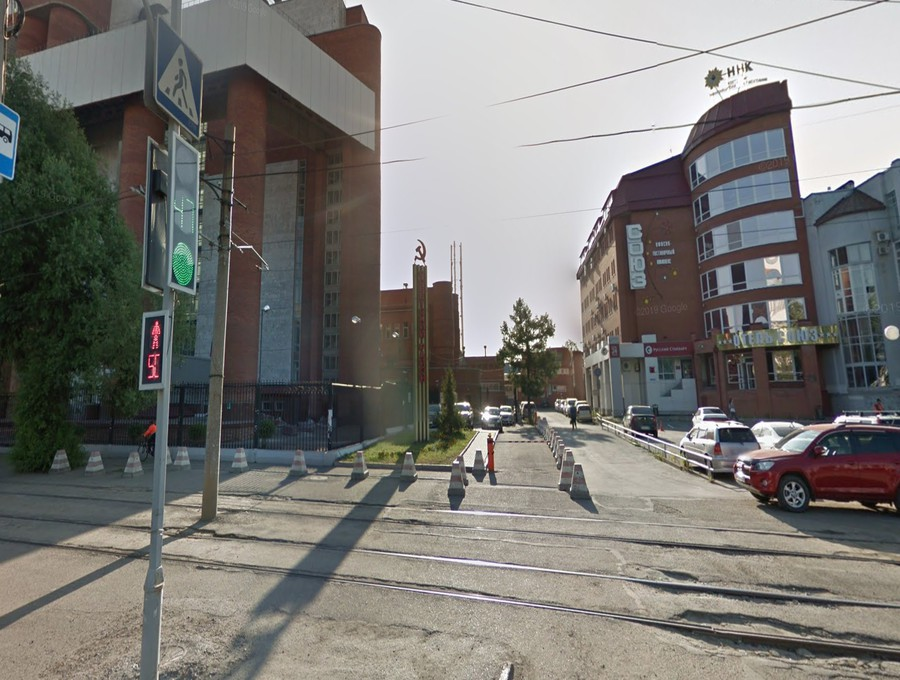Traffic Light-red: (139, 302, 173, 401)
